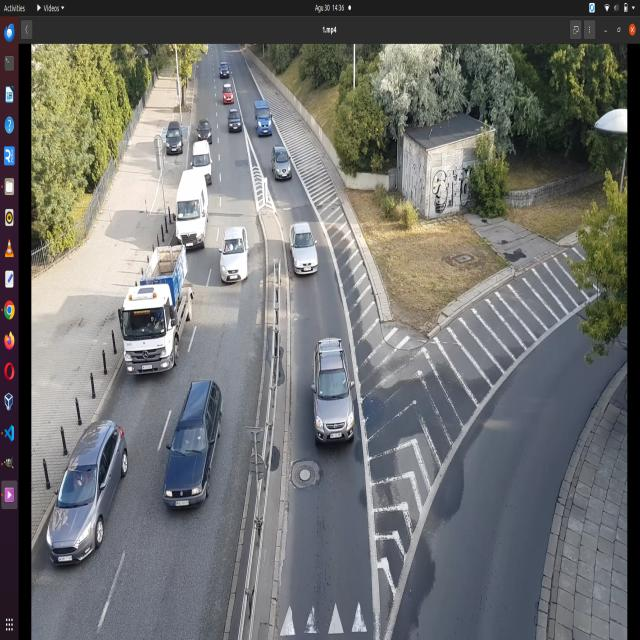person_with_seatbelt: (70, 473, 87, 492), (153, 309, 167, 330), (226, 239, 234, 256), (235, 239, 244, 254)
person_without_seatbelt: (304, 232, 312, 249), (192, 200, 198, 217)
